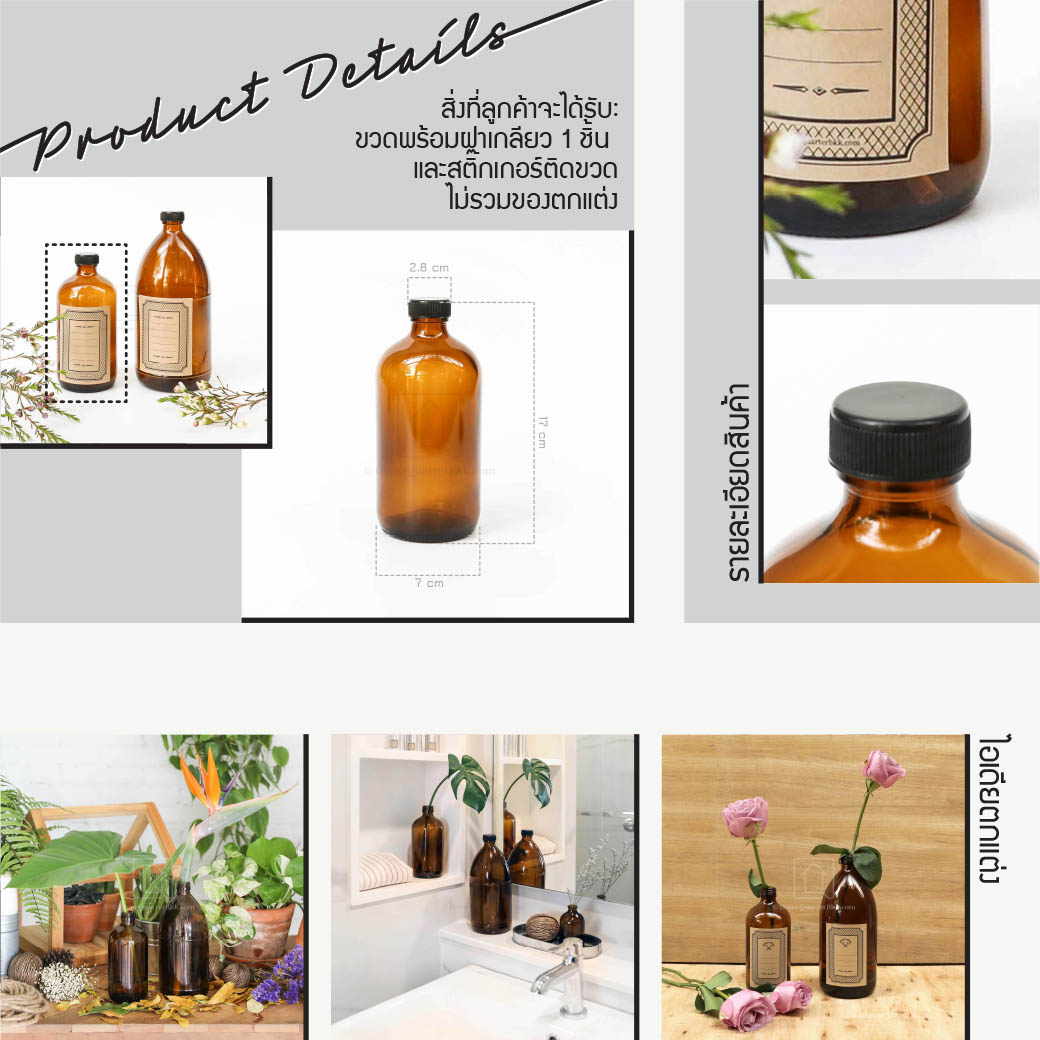glass_bottle: (366, 295, 502, 549), (128, 210, 231, 402), (55, 248, 125, 394)
